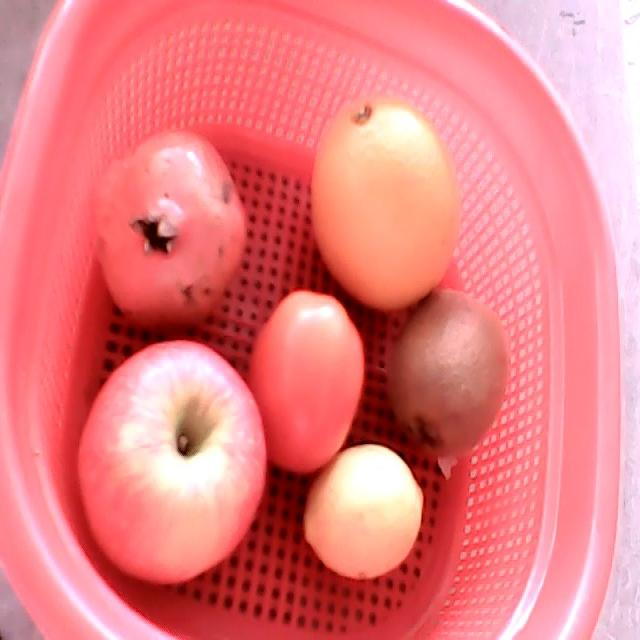apple: (77, 340, 269, 585)
kiwi: (388, 290, 507, 457)
lemon: (248, 289, 367, 475), (304, 443, 425, 580)
orange: (312, 94, 460, 311)
pomegranate: (92, 130, 247, 333)
